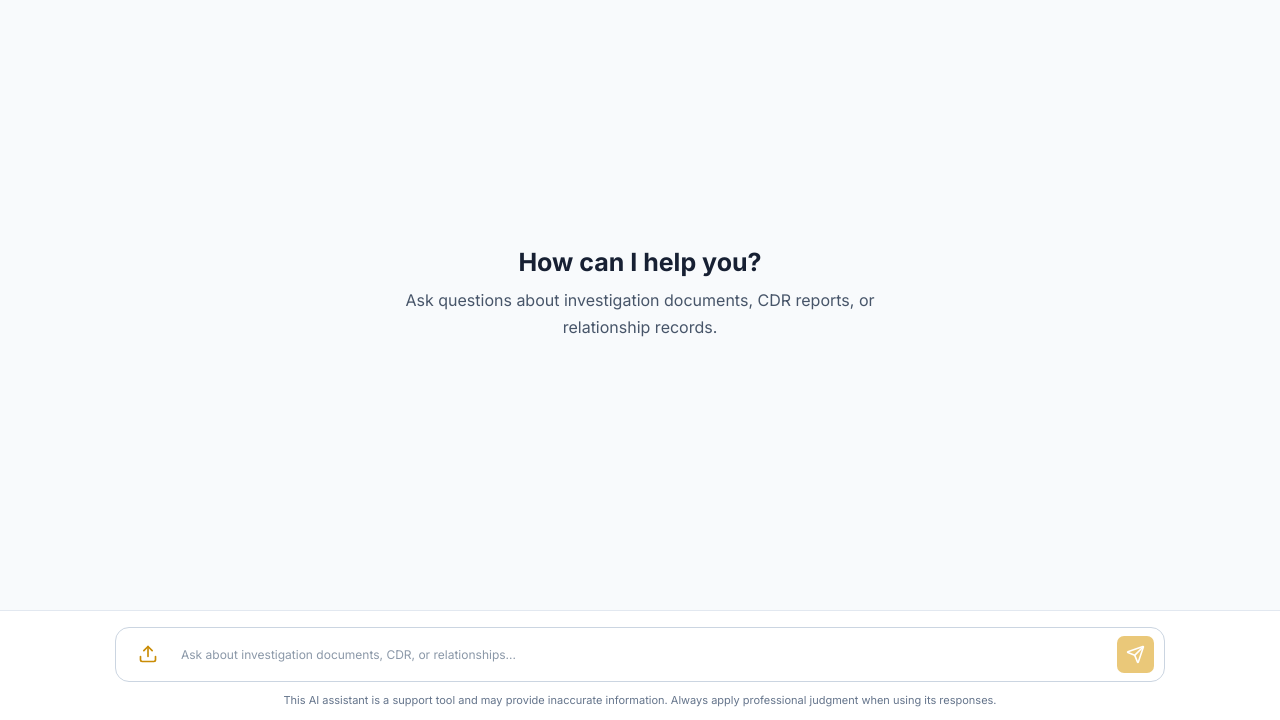
chat submissions › restores failed questions and retries without duplicate bubbles
This screenshot has width=1280, height=720.
In the field named "Ask the ACC assistant": (640, 654) [174,636,1107,672], type "Tell me about the Haa case"
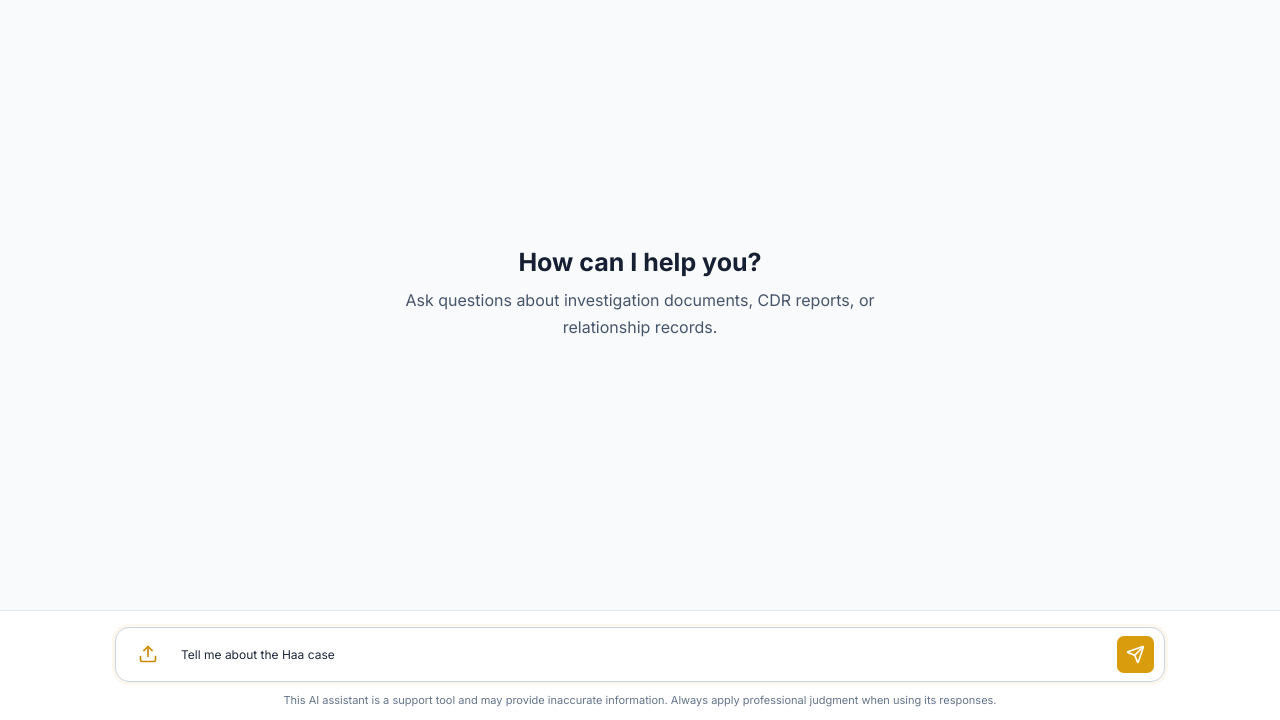
Click the button named "Send message": (1136, 654) [1117,636,1154,672]
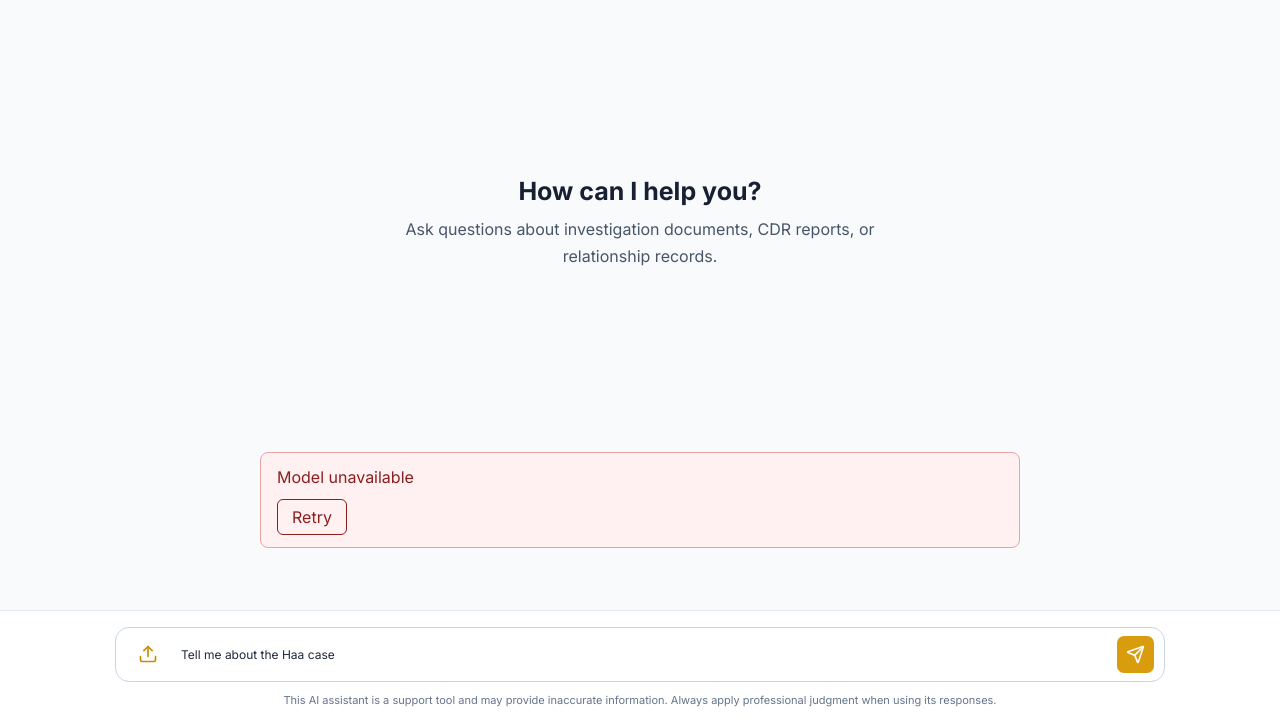
Expected: the message shows "Model unavailable", [277,466,414,486]
Click the button "Retry": (312, 516) [277,498,347,534]
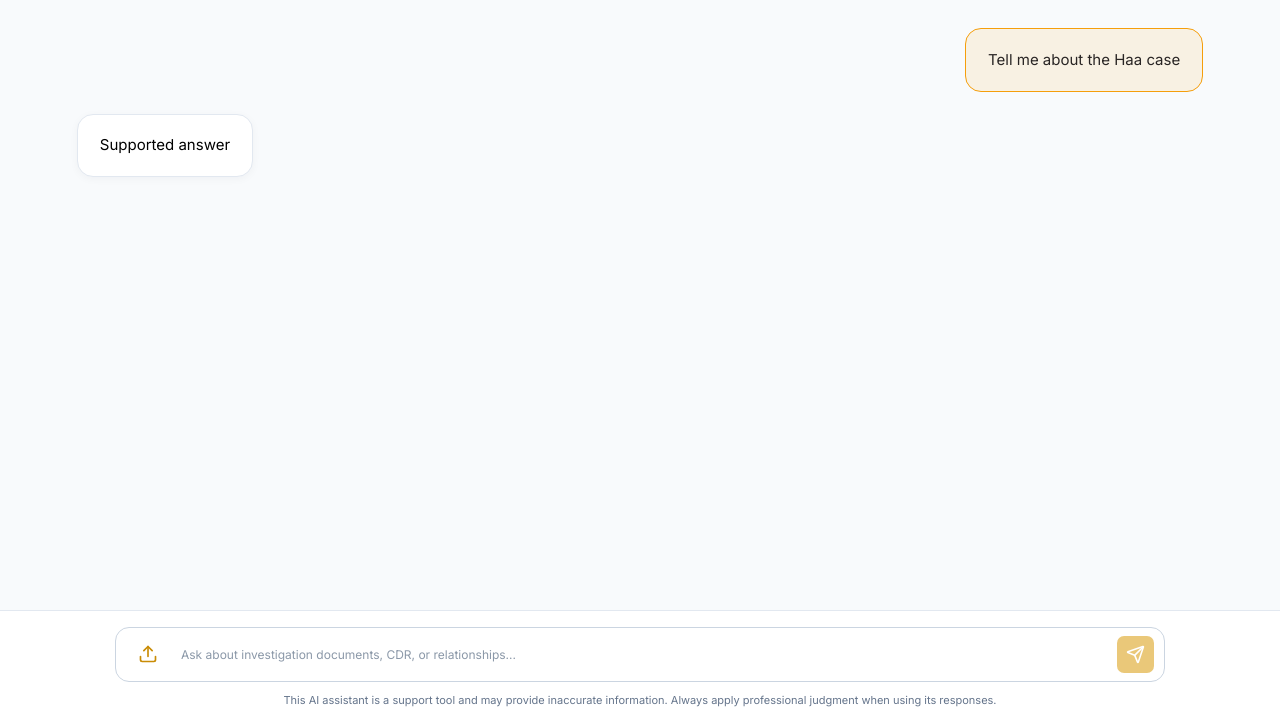
Expected: the text "Tell me about the Haa case" is shown once, [988,47,1180,73]
Expected: the text "Supported answer" is shown, [100,133,230,158]
Expected: the message "Model unavailable Retry" is gone
